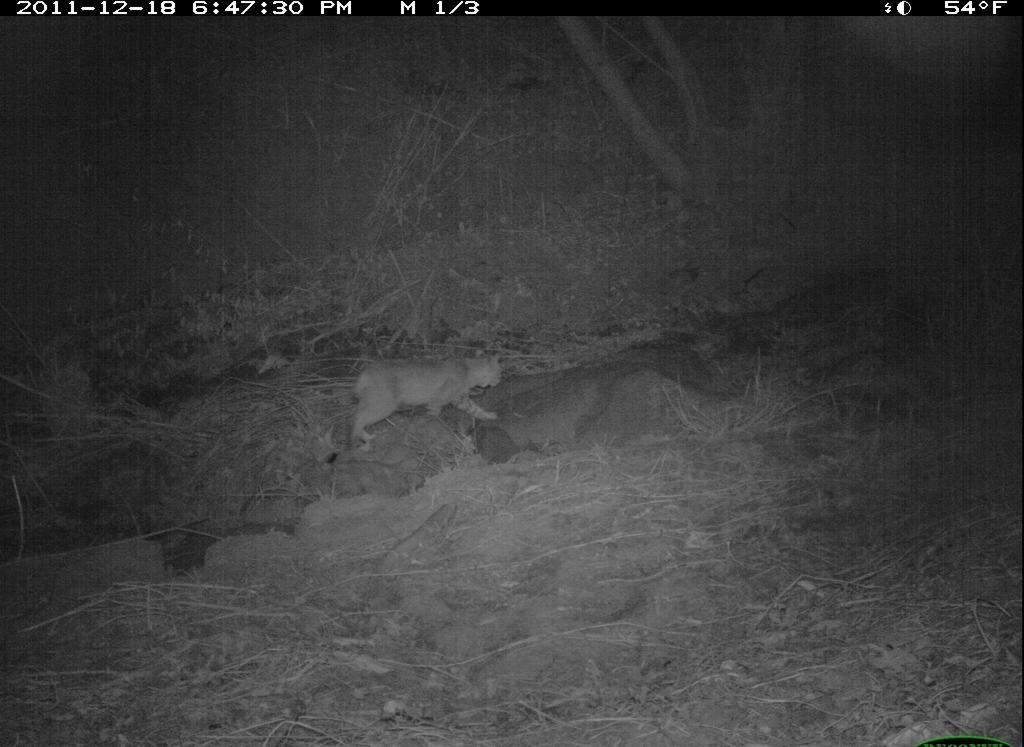bobcat: (342, 345, 510, 452)
